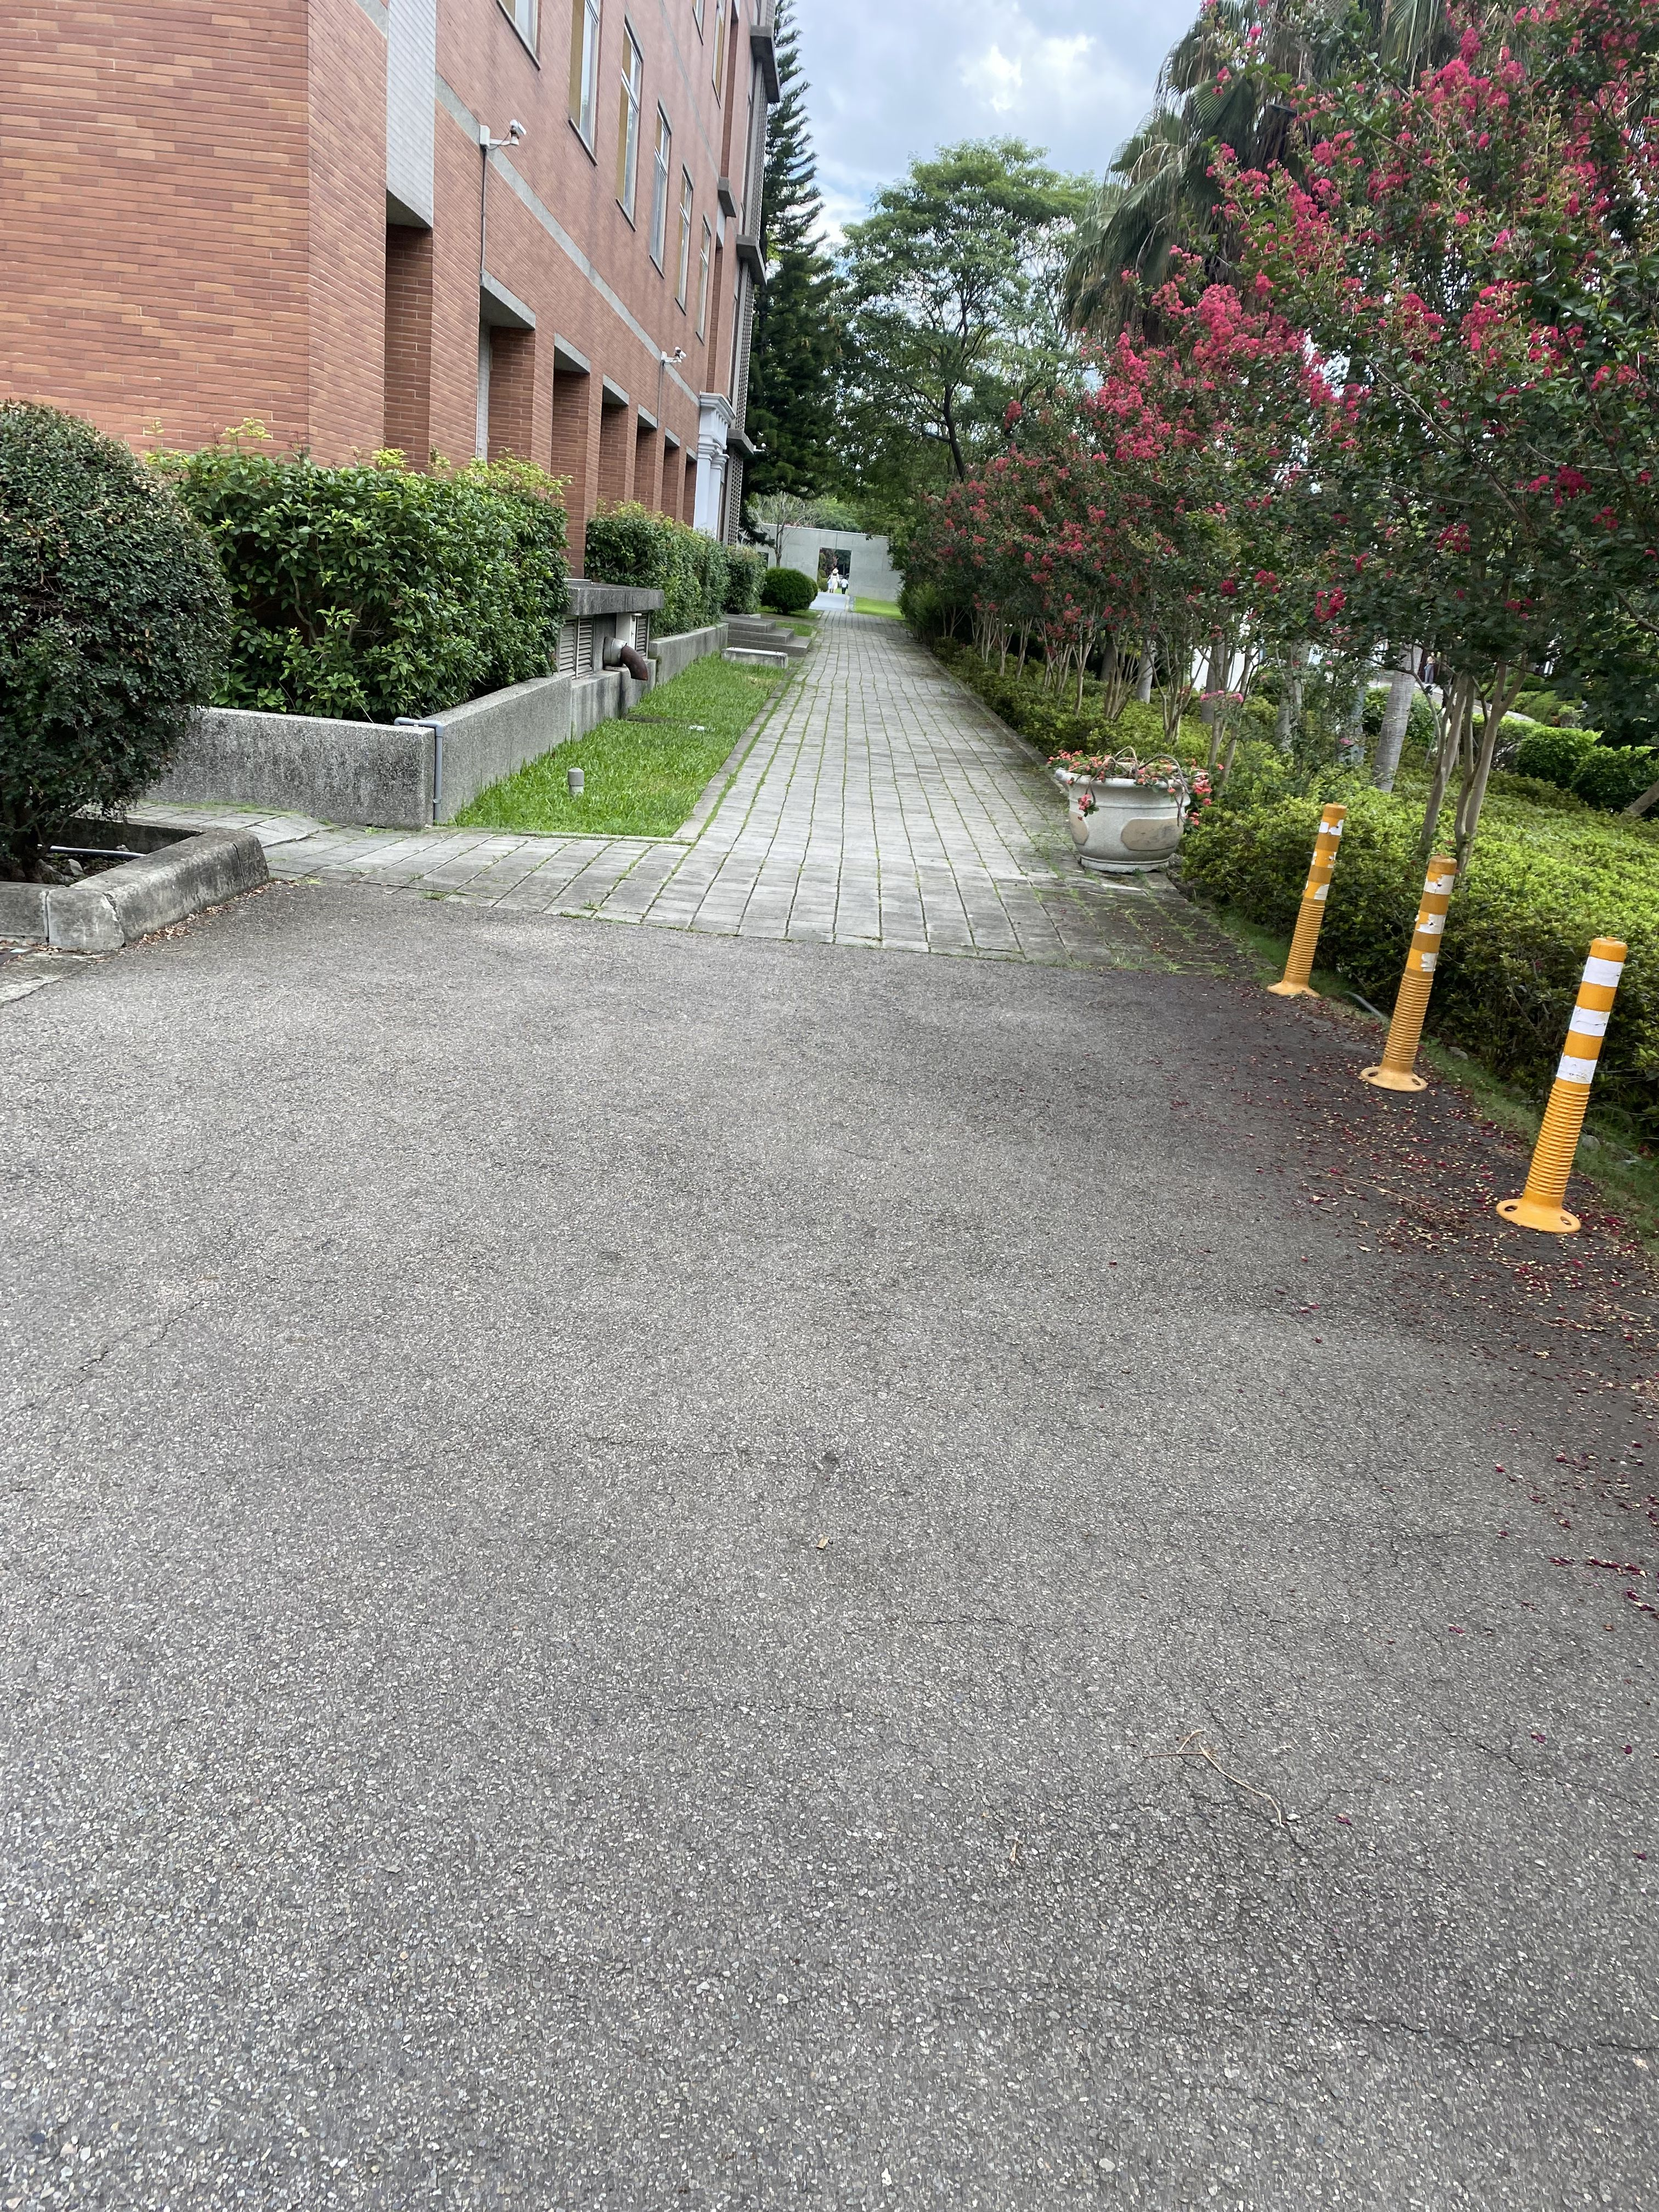0: (441, 899, 1556, 2212)
sidewalk: (664, 601, 1195, 1169)
